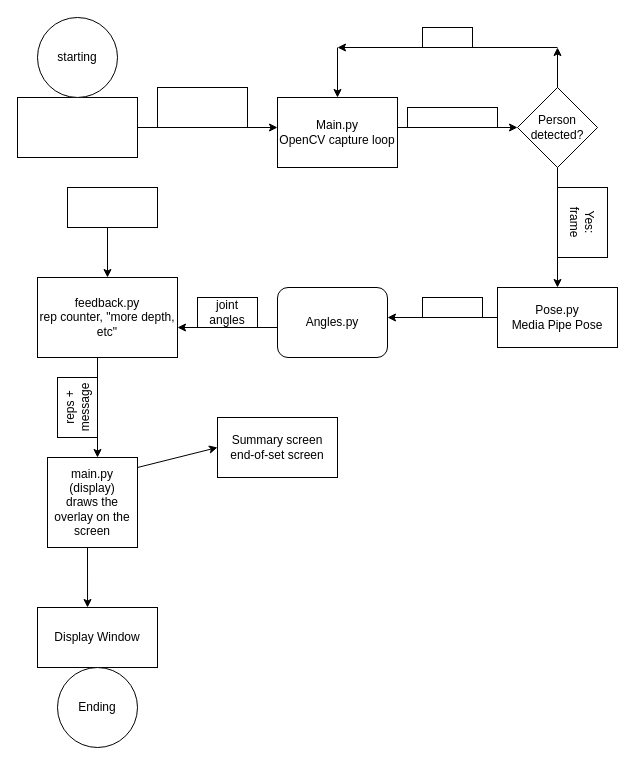
Image size: 635x765. Some labels were removed from this diagram. Each missing label, with the box of its shape:
Config file: (66, 186, 158, 228)
frame: (406, 106, 498, 128)
landmarks: (422, 296, 482, 318)
No: (422, 26, 472, 48)
video frames: (156, 86, 248, 128)
Webcam: (16, 96, 138, 158)
